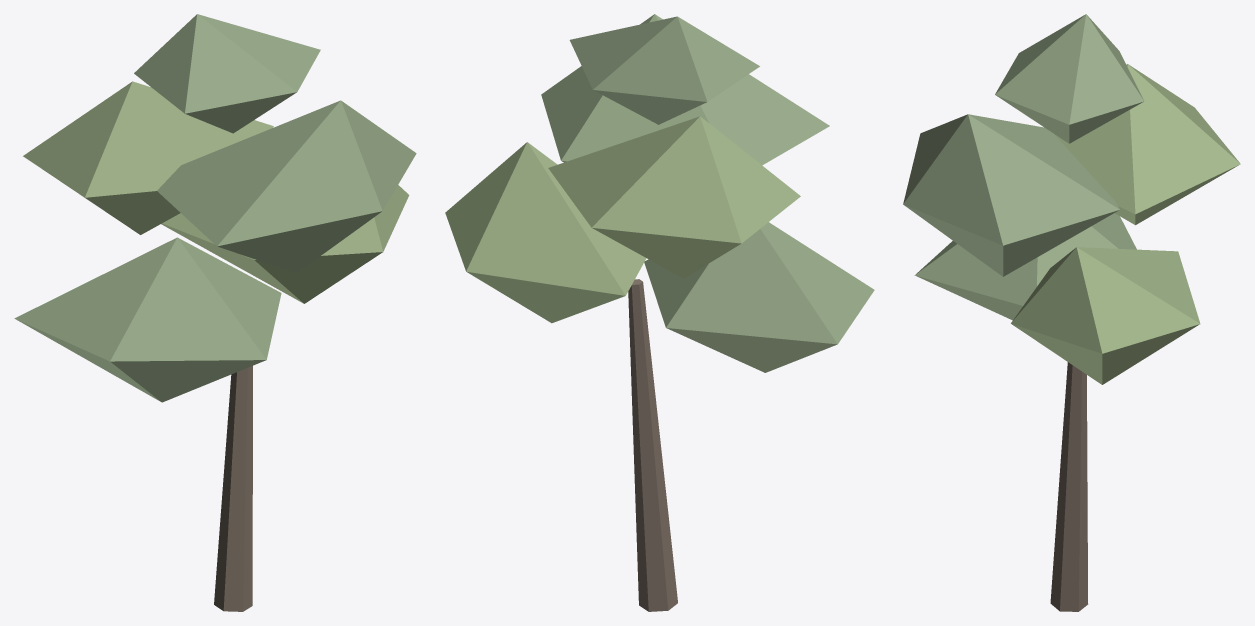
3 renders of one model, left to right at view 1: azimuth 30°, elevation 25°; view 2: azimuth 150°, elevation 25°; view 3: azimuth 270°, elevation 25°, orthographic. The views are drawn at different scales.
Size of the model in its own units: 13.31 by 19.29 by 10.22.
